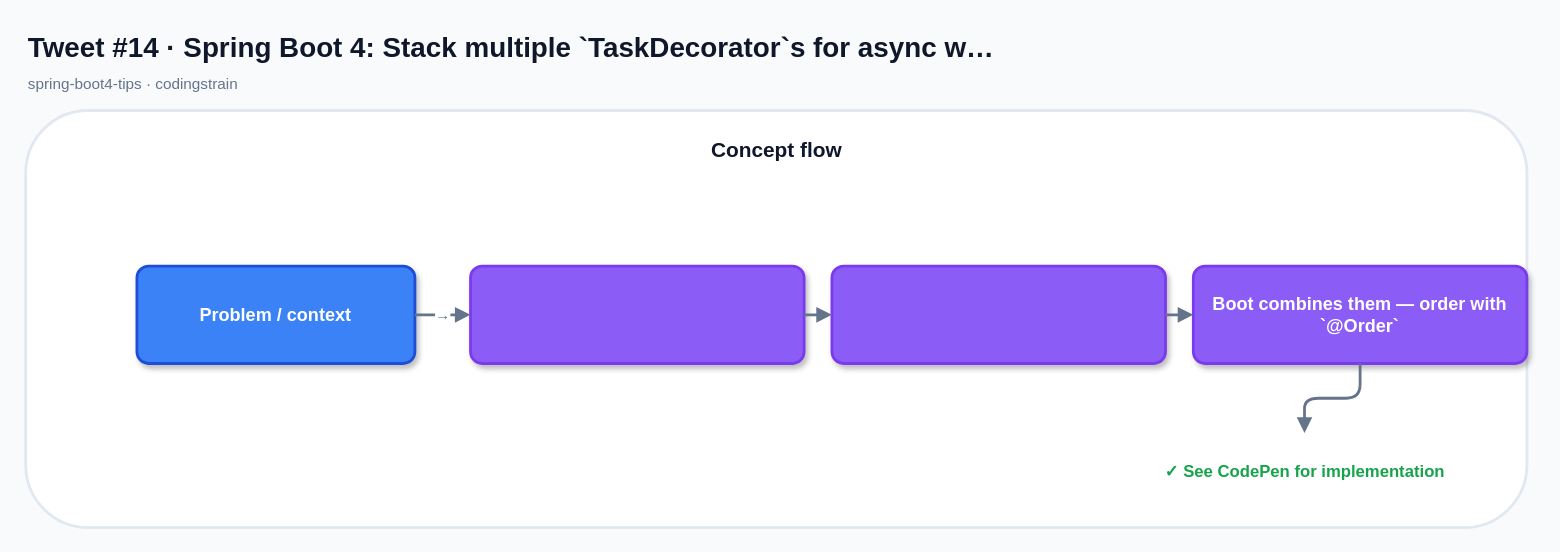
Some shapes in this 1560 by 552 pixel diagram are drawn without their labels. Here are the shapes that lost their labels. From the top down, the centre of each, then its label:
At (x=638, y=316): "💡 Spring Boot 4: Stack multiple `TaskDecorator`s for async work.".
At (x=999, y=316): "Each one can copy context to the worker thread".
